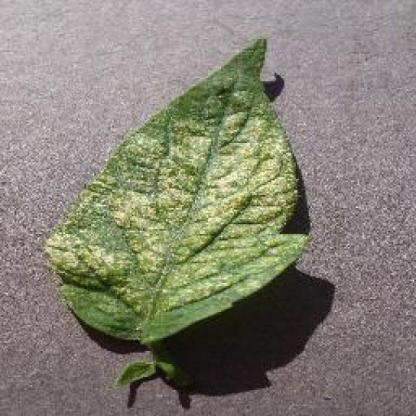Tomato_Spider_Mites: (49, 38, 307, 342)
